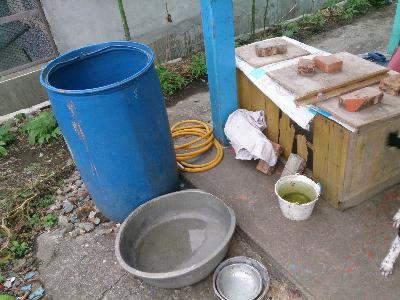bowl: (114, 188, 236, 291), (212, 255, 270, 300), (217, 262, 262, 300)
bucket: (40, 40, 182, 223), (275, 173, 322, 221)
